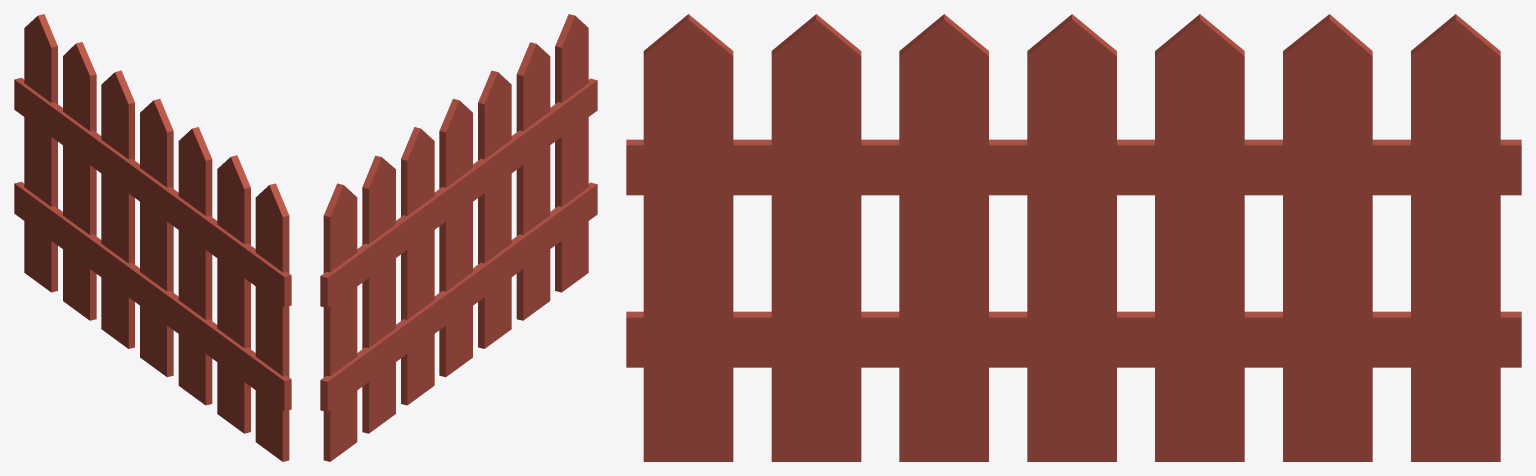
The model's file is SpikedFence2m.fbx.
3 views of the same model, side by side, from view 1: azimuth 30°, elevation 25°; view 2: azimuth 150°, elevation 25°; view 3: azimuth 270°, elevation 25° (orthographic). The views are drawn at different scales.
Parts seen in each view (by area): view 1: SpikedFence; view 2: SpikedFence; view 3: SpikedFence.
Part boxes in pixels (left/top/right/bottom): SpikedFence: left=14, top=14, right=291, bottom=461; SpikedFence: left=320, top=14, right=597, bottom=461; SpikedFence: left=626, top=14, right=1521, bottom=461.
Size of the model in its own units: 2 by 0.0439 by 1.09.
